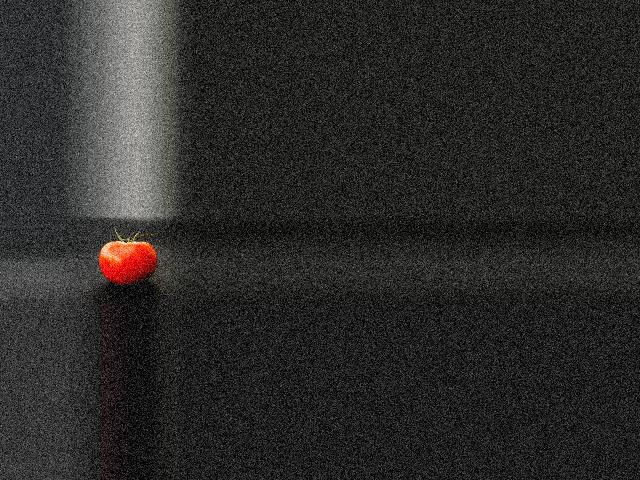tomato: (98, 241, 156, 285)
